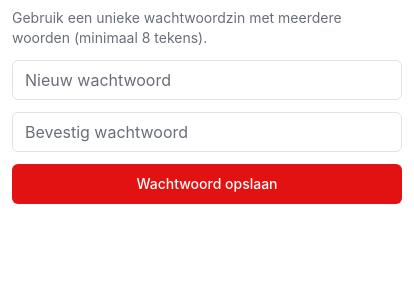
password reset › keeps a rejected reset open and permits a corrected submission
Later steps or results of the test are not shown.
Type "fixture-password" into the password field labelled "Nieuw wachtwoord". click: x=207, y=80
box: 12,60 -> 402,100
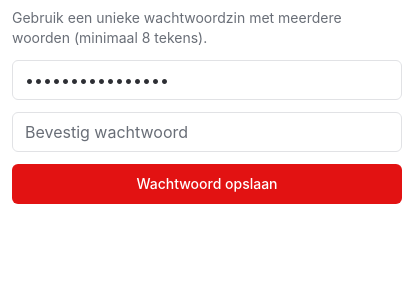
Type "fixture-password" into the password field labelled "Bevestig wachtwoord". click: x=207, y=132
box: 12,112 -> 402,152
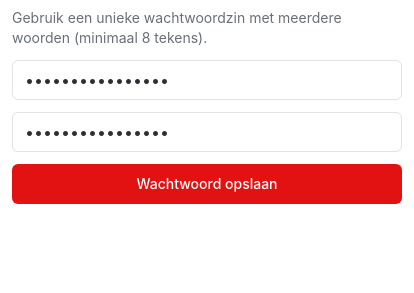
Click the button "Wachtwoord opslaan". click: x=207, y=184
box: 12,164 -> 402,204
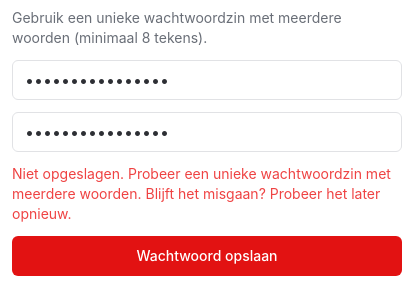
Result: the message is shown at 12,164 -> 402,224
